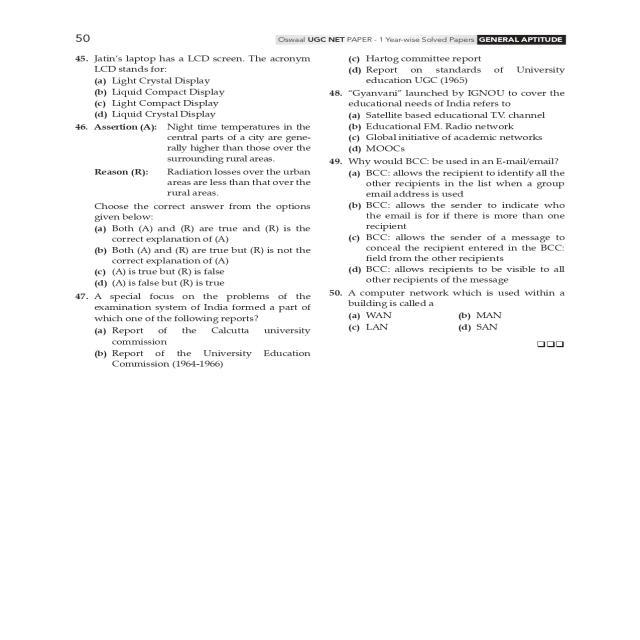Answer_Block: (330, 170, 575, 290), (53, 223, 323, 291), (58, 72, 313, 120), (56, 325, 318, 369), (327, 114, 570, 154), (335, 306, 581, 342), (324, 51, 566, 85)
Question_Answer_Block: (53, 121, 321, 291), (330, 154, 578, 288), (58, 290, 322, 370), (58, 49, 314, 122), (326, 86, 567, 156), (333, 287, 580, 340), (323, 52, 569, 86)
Question_Block: (56, 123, 320, 224), (60, 290, 318, 326), (58, 51, 318, 78), (324, 90, 566, 112), (328, 286, 580, 306), (323, 154, 575, 167)
Question_Paper_Area: (35, 49, 588, 385)
